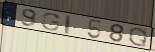5: (87, 19, 103, 40)
8: (108, 24, 125, 43)
9: (20, 9, 39, 28)
G: (41, 12, 61, 31)
I: (65, 14, 72, 36)
Q: (128, 26, 149, 48)
